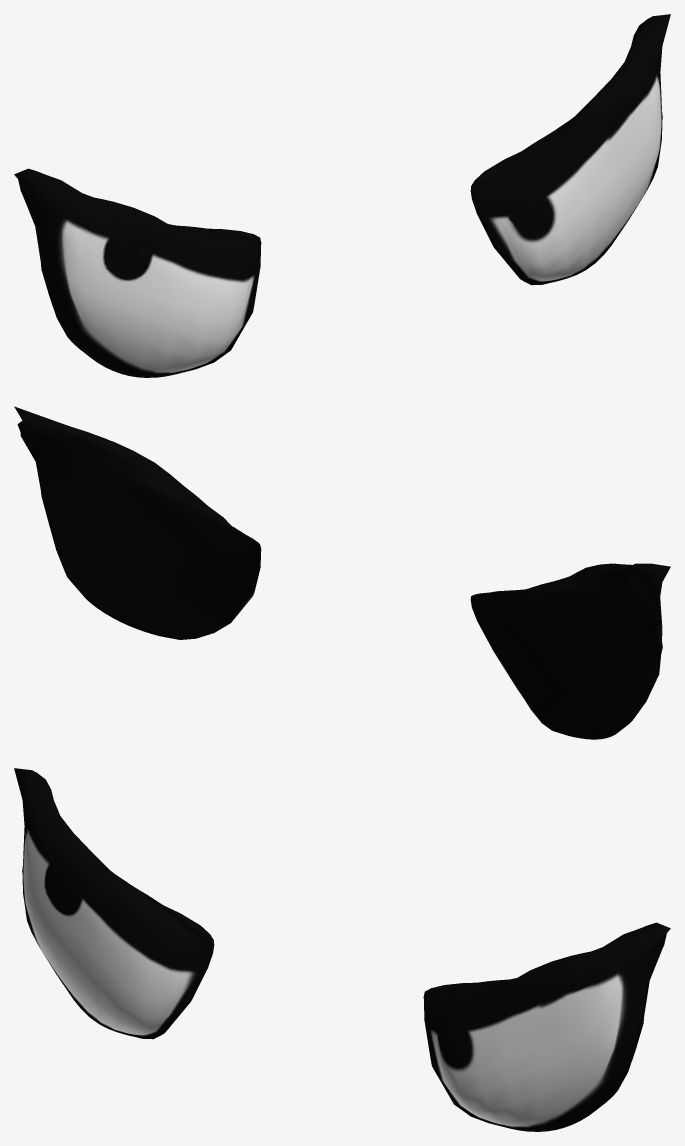
Rendered from Angry.glb.
3 renders of one model, top to bottom at view 1: azimuth 30°, elevation 25°; view 2: azimuth 150°, elevation 25°; view 3: azimuth 330°, elevation 25°, orthographic.
Parts seen in each view (by area): view 1: Sphere.012; view 2: Sphere.012; view 3: Sphere.012.
Part boxes in pixels (<box>): Sphere.012: <box>14,14,670,377</box>; Sphere.012: <box>14,406,670,739</box>; Sphere.012: <box>14,768,670,1131</box>.
Bounding box in the file's own units: 0.3539 × 0.1116 × 0.0456.
2 materials, 2 textured.
